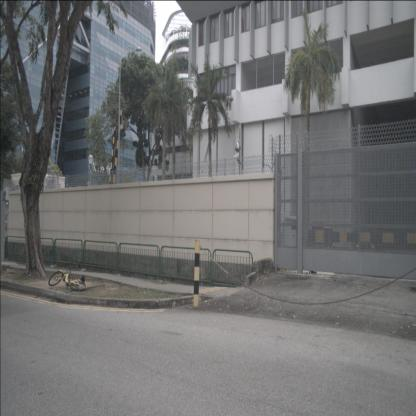vehicle-bicycle: (48, 266, 87, 292)
